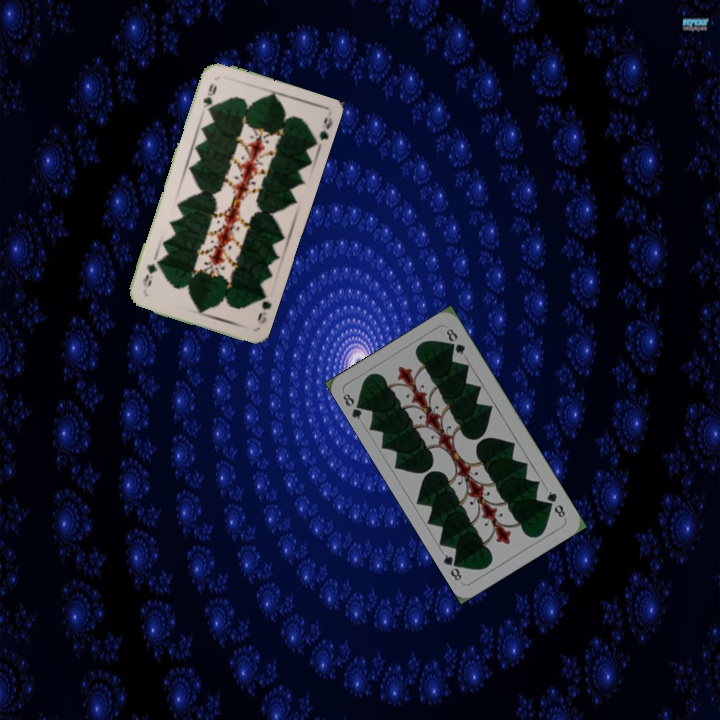G8: (339, 389, 368, 422), (543, 487, 568, 520)
G9: (253, 290, 274, 327), (199, 79, 219, 115)
